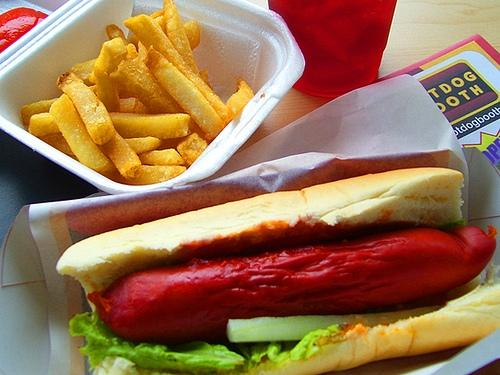lettuce: (68, 307, 246, 375), (199, 324, 344, 372)
